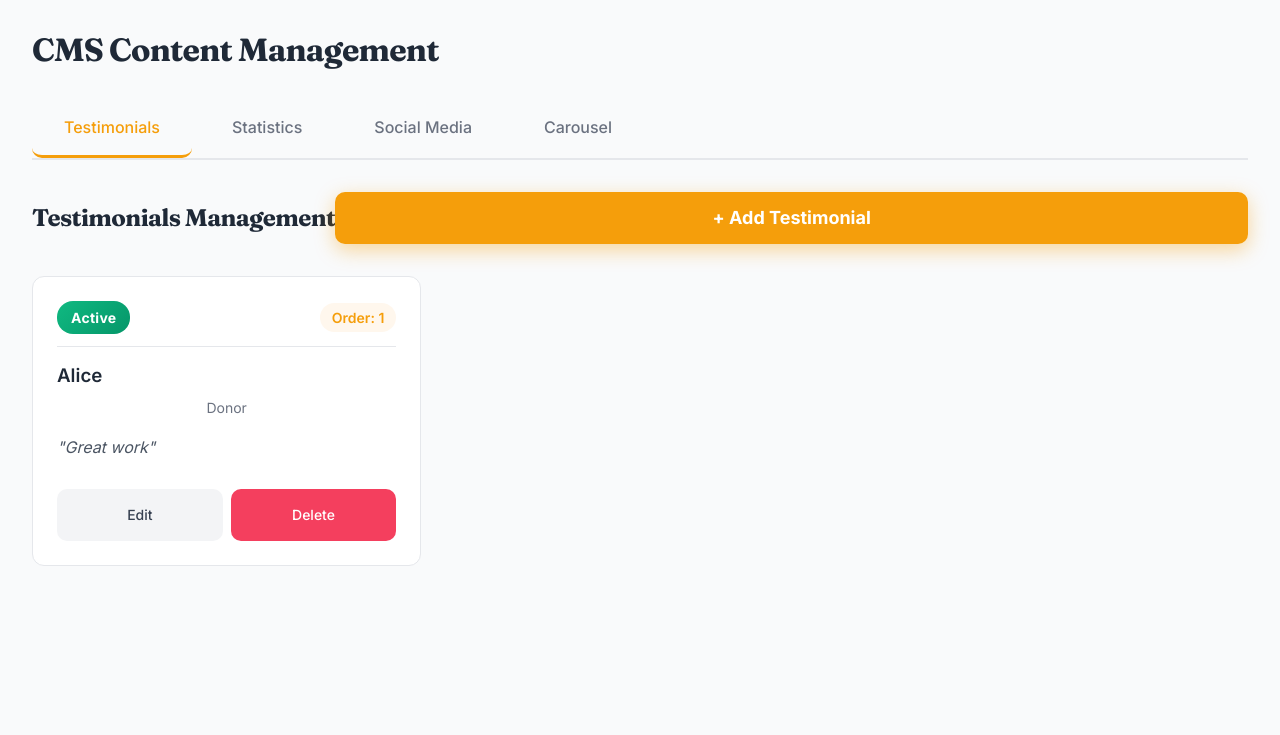
Test: AdminCMS › clicking Add Image in Carousel tab shows CarouselForm
expect the heading "Alice" is shown: met, box [57,364,102,387]
Click the button "Carousel": [578, 129] box [512,99,644,158]
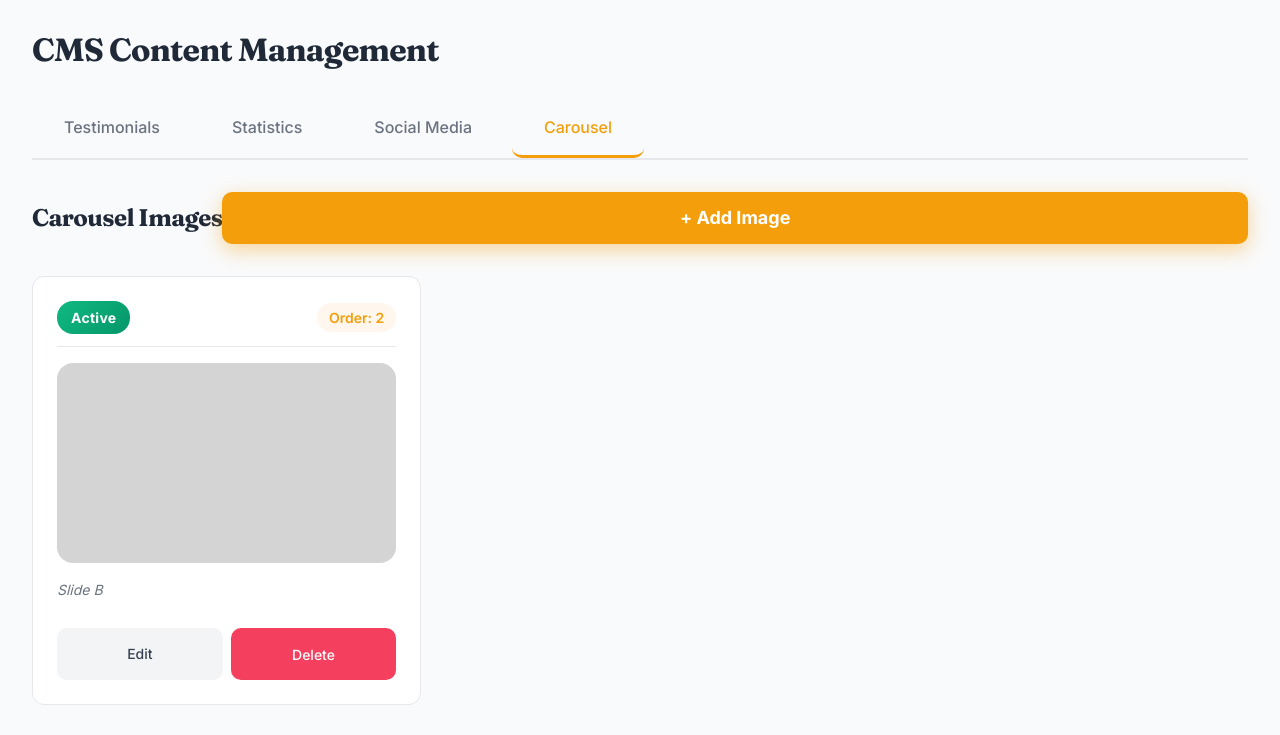
expect the text "Slide B" is shown: met, box [57,581,103,598]
Click the button "+ Add Image": [735, 218] box [222,192,1248,244]
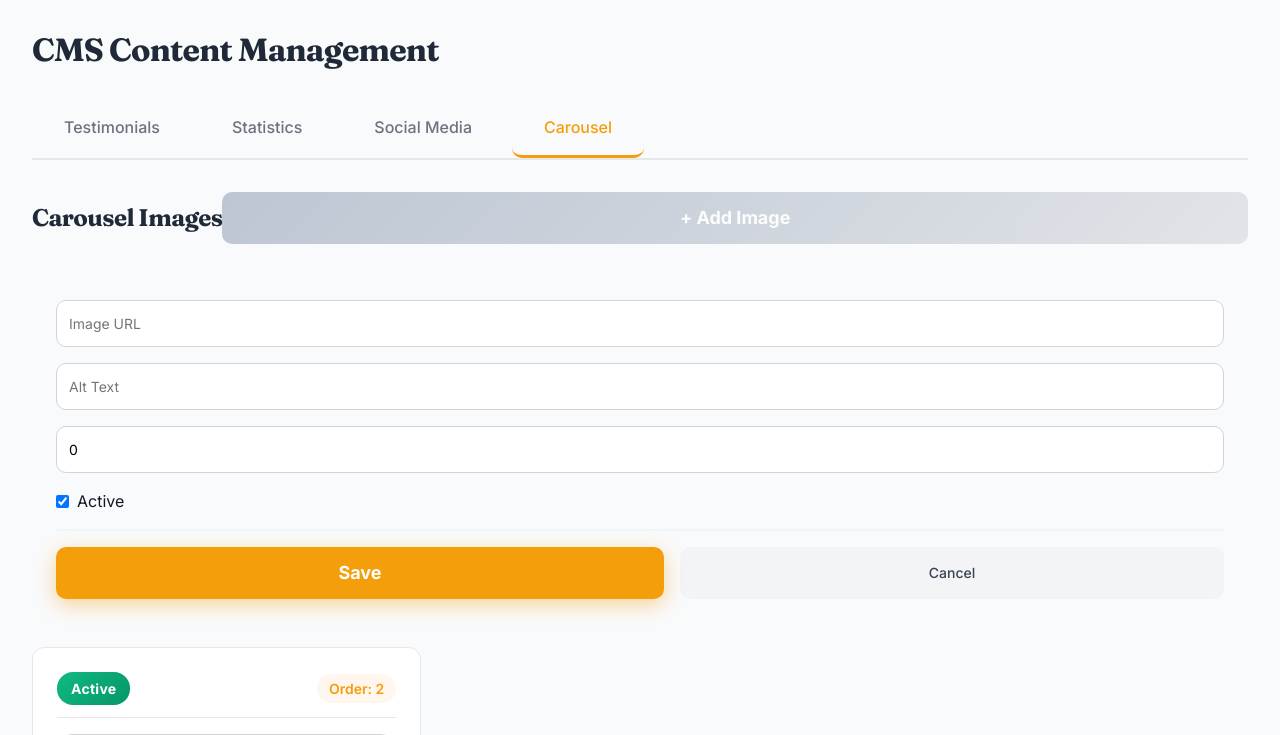
expect the field with placeholder "Image URL" is shown: met, box [56,300,1224,347]
